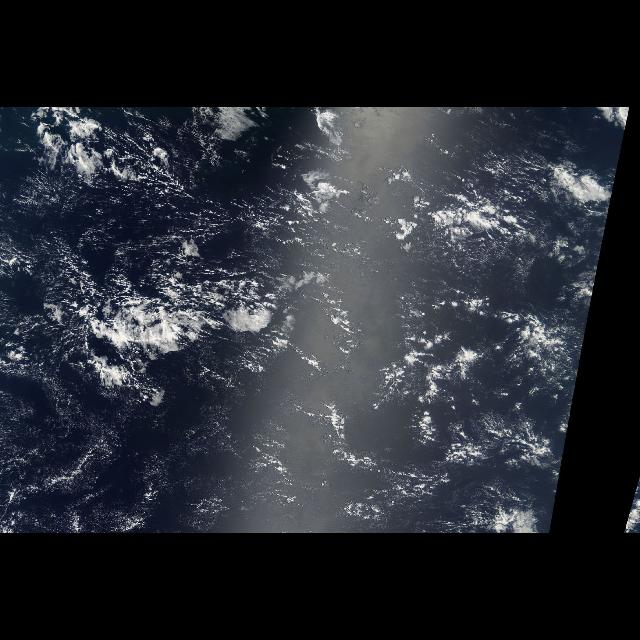Fish: (77, 236, 321, 398)
Sugar: (1, 368, 342, 530), (17, 184, 300, 298)
